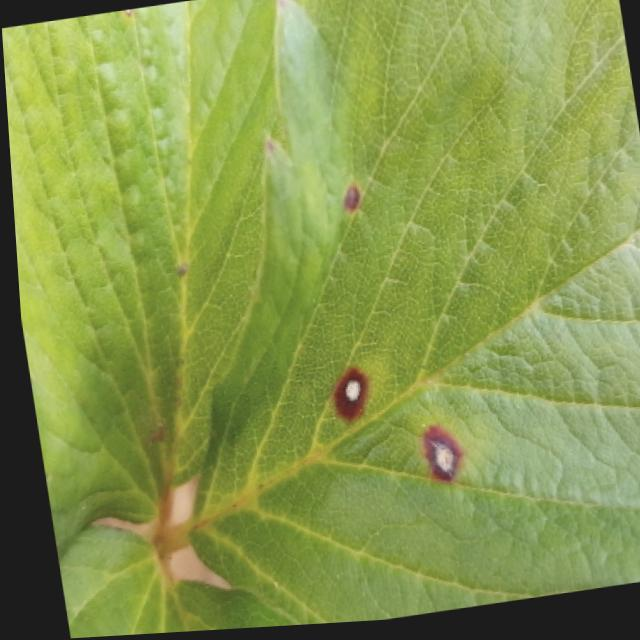Leaf Spot: (177, 0, 640, 628), (1, 0, 282, 560)
